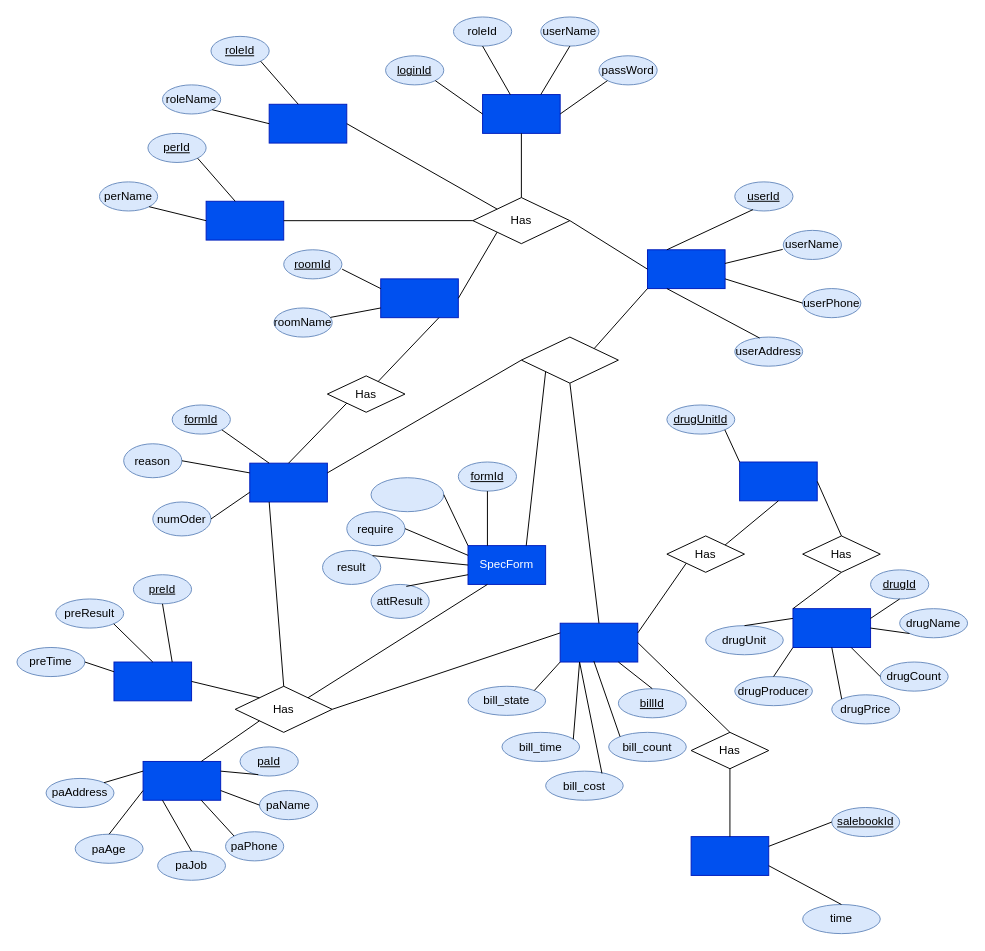
This 985x951 diagram has some shape labels left out. The box of each missing label's shape, as (x1, y1, x2, y2) in pixels:
Bill: (559, 622, 638, 662)
Create: (520, 336, 618, 383)
drug: (792, 608, 871, 647)
drugUnitPrice: (739, 461, 817, 501)
illness_pre: (113, 661, 192, 701)
Login: (482, 94, 560, 133)
MEForm: (249, 462, 327, 502)
Patient: (142, 760, 221, 800)
Permission: (205, 200, 284, 240)
reasonDetail: (370, 477, 444, 512)
Role: (268, 103, 347, 143)
RoomSpec: (380, 278, 458, 318)
saleBook: (690, 836, 769, 875)
User: (647, 249, 725, 289)
